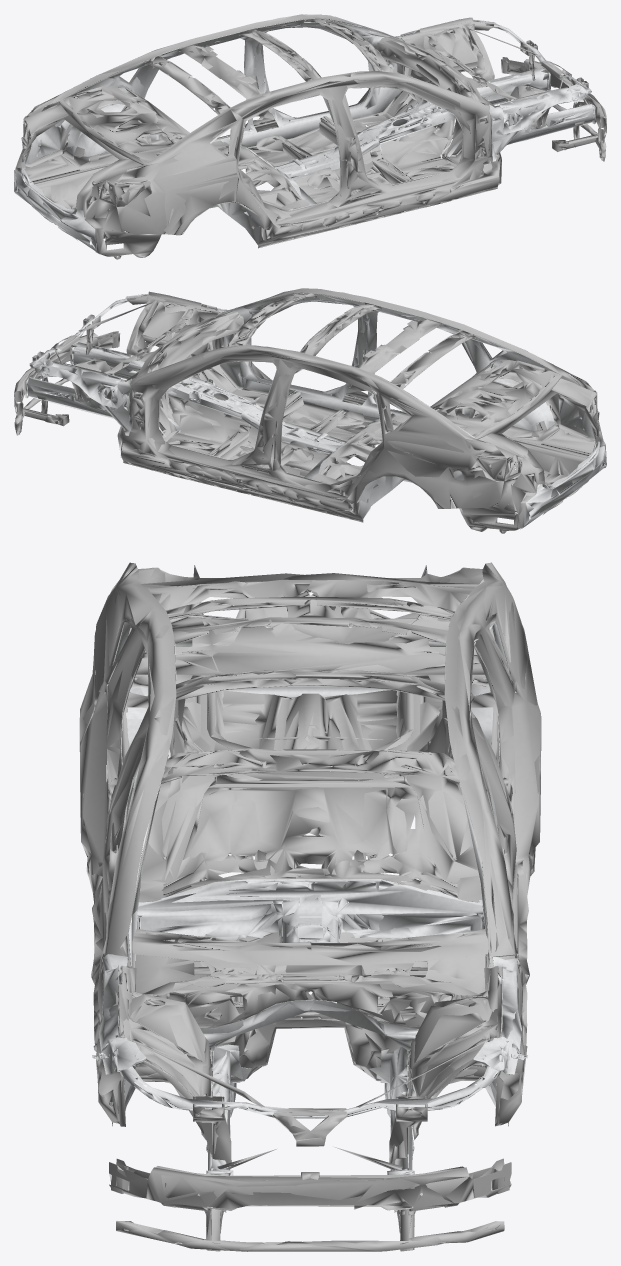
Rendered from body_far.glb.
3 renders of one model, top to bottom at view 1: azimuth 30°, elevation 25°; view 2: azimuth 150°, elevation 25°; view 3: azimuth 270°, elevation 25°, orthographic. The views are drawn at different scales.
Parts seen in each view (by area): view 1: body_01_mesh_00, bodyinside_01_mesh_00; view 2: body_01_mesh_00, bodyinside_01_mesh_00; view 3: body_01_mesh_00, bodyinside_01_mesh_00.
Boxes of the visible parts, x1,y1,x2,y2 form: body_01_mesh_00: (15,14,606,259); bodyinside_01_mesh_00: (14,18,596,254); body_01_mesh_00: (14,288,606,533); bodyinside_01_mesh_00: (25,292,606,529); body_01_mesh_00: (79,562,541,1251); bodyinside_01_mesh_00: (83,570,527,1212).
Size of the model in its own units: 4.92 by 1.31 by 1.84.
2 materials, 2 textured.
